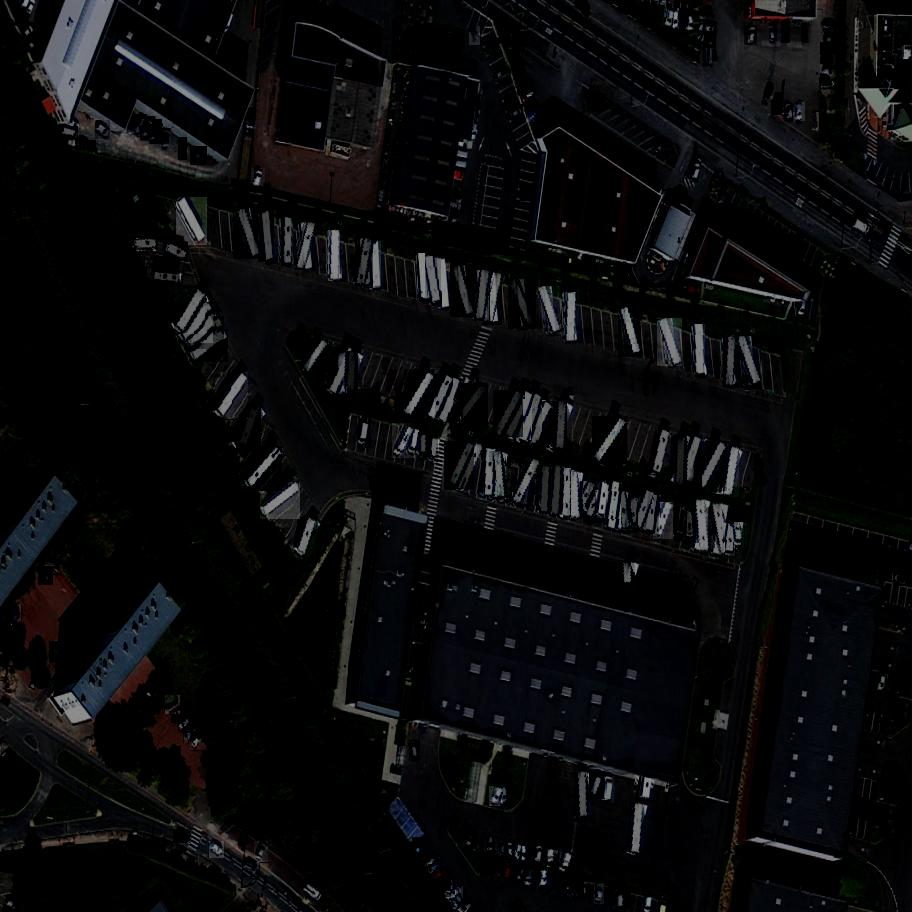large-vehicle: (242, 446, 284, 491), (451, 383, 491, 428), (592, 416, 629, 464), (214, 372, 250, 420), (175, 197, 210, 246), (258, 482, 302, 520), (696, 442, 729, 492), (177, 302, 216, 344), (493, 391, 527, 439), (325, 346, 357, 396), (174, 289, 208, 335), (404, 370, 438, 416), (444, 441, 475, 491), (233, 207, 262, 260), (507, 278, 537, 329), (456, 443, 485, 495), (735, 337, 764, 388), (184, 316, 227, 349), (512, 459, 542, 506), (426, 375, 455, 422), (188, 330, 229, 363), (526, 402, 555, 447), (236, 402, 262, 452), (508, 391, 534, 441), (618, 306, 643, 357), (679, 435, 703, 488), (450, 265, 474, 318), (657, 319, 683, 367), (520, 394, 544, 445), (538, 287, 563, 335), (295, 220, 317, 270), (711, 503, 731, 556), (440, 378, 462, 424), (303, 339, 331, 374), (484, 271, 502, 325), (296, 515, 319, 557), (355, 237, 374, 287), (633, 491, 655, 532), (652, 430, 672, 475), (259, 211, 276, 262), (630, 802, 646, 856), (475, 269, 491, 322), (575, 481, 598, 517), (723, 447, 739, 498), (653, 503, 673, 540), (426, 257, 442, 303), (607, 480, 622, 529), (553, 402, 567, 453), (583, 491, 605, 523), (696, 499, 709, 552), (494, 451, 508, 500), (622, 560, 635, 612), (574, 772, 588, 820), (564, 292, 577, 343), (723, 336, 735, 388), (328, 230, 340, 281), (675, 434, 687, 485), (552, 465, 564, 515), (539, 465, 551, 514), (647, 494, 661, 535), (370, 241, 382, 288), (347, 352, 359, 398), (694, 325, 705, 375), (281, 217, 292, 266), (570, 471, 581, 519), (163, 242, 189, 262), (597, 482, 611, 519), (618, 491, 631, 530), (418, 254, 429, 300), (674, 506, 688, 541), (484, 448, 494, 496), (563, 468, 571, 517), (152, 270, 180, 283), (686, 508, 696, 544), (726, 525, 737, 557), (628, 498, 638, 532), (504, 468, 513, 502), (735, 522, 745, 549), (134, 239, 158, 250)
small-vehicle: (392, 424, 416, 459), (301, 879, 327, 904), (590, 771, 608, 800), (850, 218, 875, 238), (559, 848, 576, 875), (357, 419, 372, 449), (48, 642, 69, 663), (411, 837, 433, 857), (140, 117, 158, 141), (189, 146, 210, 166), (242, 857, 263, 877), (3, 611, 21, 634), (94, 120, 114, 140), (526, 104, 546, 124), (421, 852, 442, 871), (408, 427, 422, 455), (149, 119, 164, 145), (163, 695, 183, 714), (587, 94, 607, 113), (521, 88, 541, 107), (169, 705, 190, 723), (58, 126, 80, 143), (508, 862, 525, 884), (45, 555, 63, 575), (62, 627, 79, 648), (761, 81, 778, 102), (770, 92, 785, 115), (36, 567, 55, 585), (653, 139, 672, 157), (517, 80, 537, 97), (692, 158, 706, 182), (254, 841, 270, 862), (446, 887, 467, 903), (177, 715, 195, 733), (208, 841, 226, 859), (15, 9, 33, 27), (426, 860, 445, 877), (182, 727, 202, 743), (83, 605, 99, 625), (506, 104, 526, 120), (428, 434, 439, 463), (489, 786, 504, 807), (251, 168, 266, 189), (603, 777, 615, 803), (190, 732, 206, 751), (884, 673, 899, 693), (420, 842, 435, 862), (572, 878, 585, 901), (134, 115, 148, 136), (744, 24, 758, 45), (23, 36, 40, 53), (699, 33, 717, 49), (432, 868, 450, 884), (601, 888, 616, 907), (480, 857, 495, 876), (438, 873, 453, 892), (819, 77, 839, 91), (492, 68, 512, 82), (174, 830, 192, 845), (820, 64, 838, 79), (516, 864, 530, 883), (469, 27, 482, 47), (700, 21, 717, 36), (11, 605, 23, 626), (893, 572, 911, 586), (465, 827, 477, 848), (22, 22, 37, 38), (794, 102, 806, 122), (201, 752, 215, 769), (820, 42, 837, 56), (485, 40, 502, 54), (679, 8, 690, 29), (664, 7, 675, 28), (503, 95, 520, 108), (453, 895, 466, 912), (409, 740, 420, 760), (489, 857, 500, 877), (420, 431, 428, 458), (594, 884, 604, 905), (878, 673, 888, 694), (821, 21, 837, 34), (686, 12, 696, 32), (524, 867, 534, 887), (558, 875, 567, 897), (445, 880, 456, 898), (582, 880, 592, 899), (879, 718, 889, 737), (499, 786, 509, 805), (163, 128, 172, 149), (616, 888, 625, 909), (539, 868, 548, 889), (77, 141, 96, 150), (784, 103, 793, 122), (532, 869, 542, 886), (504, 863, 514, 880), (179, 138, 187, 159), (782, 21, 790, 42), (546, 874, 555, 892), (486, 835, 495, 853), (548, 846, 555, 869), (497, 859, 505, 879), (514, 841, 522, 861), (687, 284, 700, 296), (535, 847, 544, 864), (673, 8, 680, 29), (615, 272, 628, 283), (520, 190, 533, 201), (769, 23, 776, 43), (802, 24, 810, 41), (856, 559, 863, 578), (812, 112, 819, 130), (525, 102, 539, 111), (501, 839, 508, 857), (700, 10, 712, 20), (624, 888, 630, 908), (823, 34, 836, 43), (567, 877, 573, 896), (522, 845, 528, 862), (508, 840, 513, 860), (615, 264, 628, 271), (38, 17, 43, 32)
